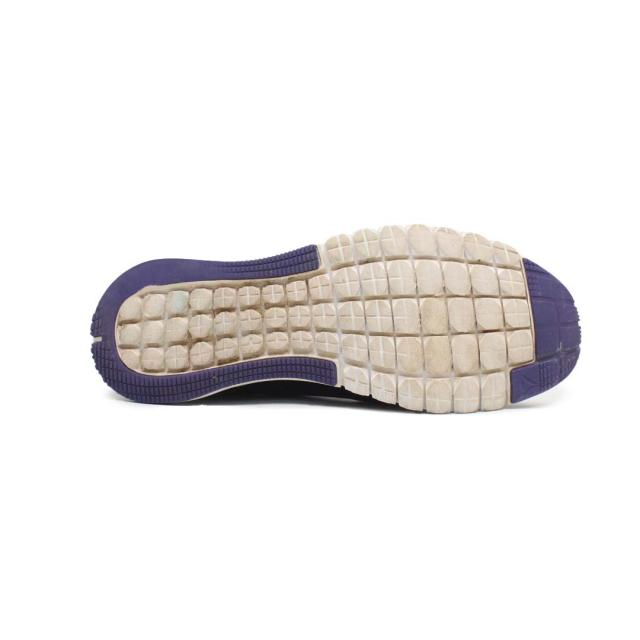outersole: (90, 227, 584, 417)
